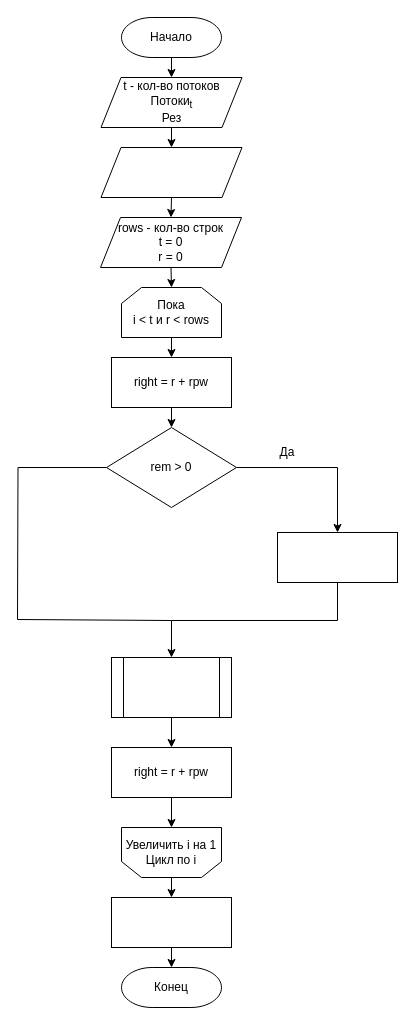
Some shapes in this 415 by 1025 pixel diagram are drawn without their labels. The box of each missing label's shape, as (x1, y1, x2, y2) in pixels:
right = right + 1 rem = rem - 1: (276, 532, 398, 582)
rpw = rows / t rem = rows % t: (100, 146, 242, 198)
Вернуть Рез: (110, 896, 232, 948)
Потоки i = worker(this, r, right, Рез): (110, 656, 232, 718)
